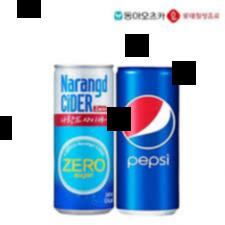narangdcider: (52, 62, 115, 215)
